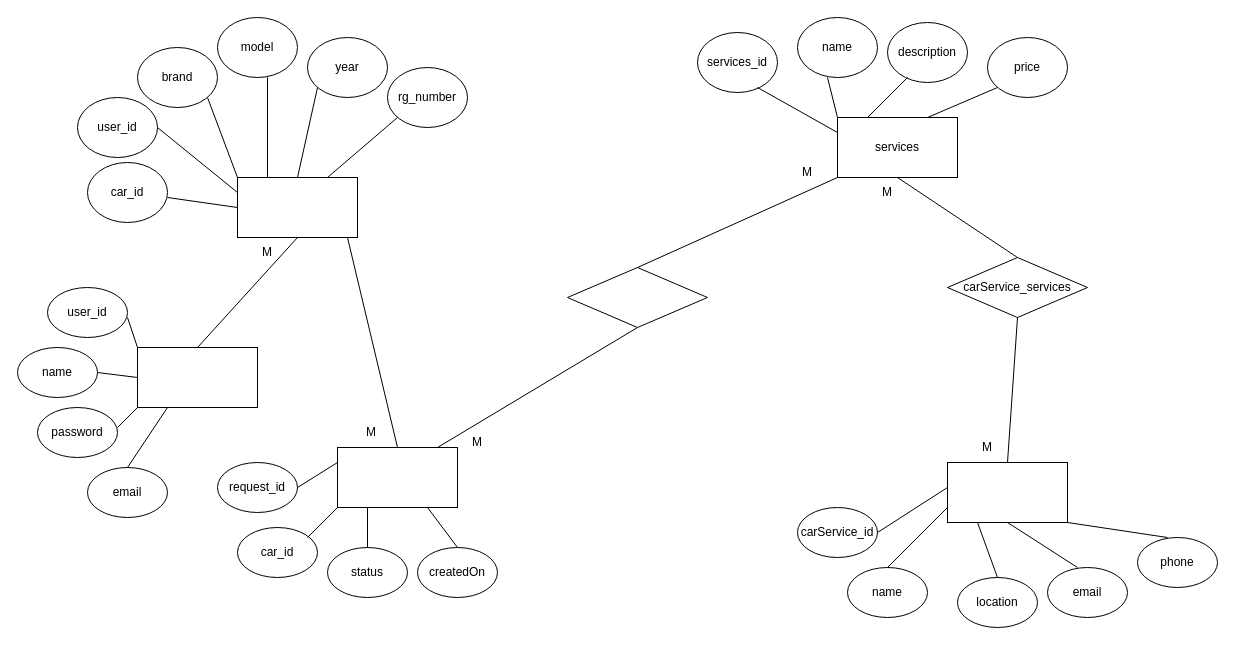
This 1235x645 diagram has some shape labels left out. Here are the shapes that lost their labels. From the top down, the centre of each, then its label:
At pixel 297 207: "car".
At pixel 637 297: "requestServices".
At pixel 197 377: "user".
At pixel 397 477: "request".
At pixel 1007 492: "carService".
